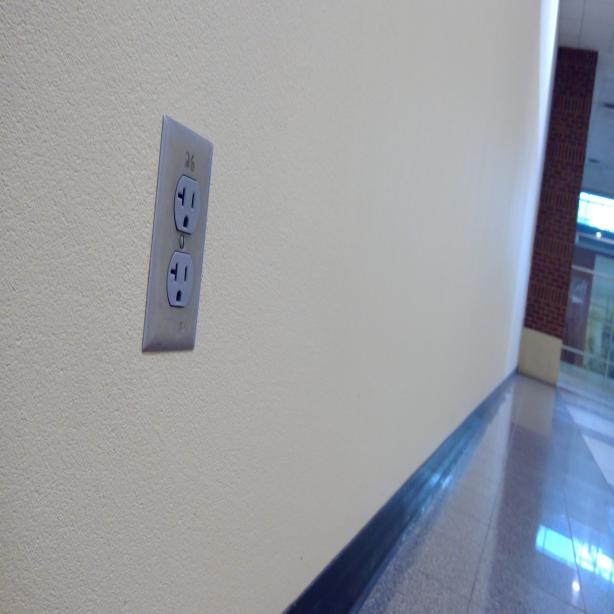typeb: (169, 172, 201, 233), (167, 248, 193, 308)
